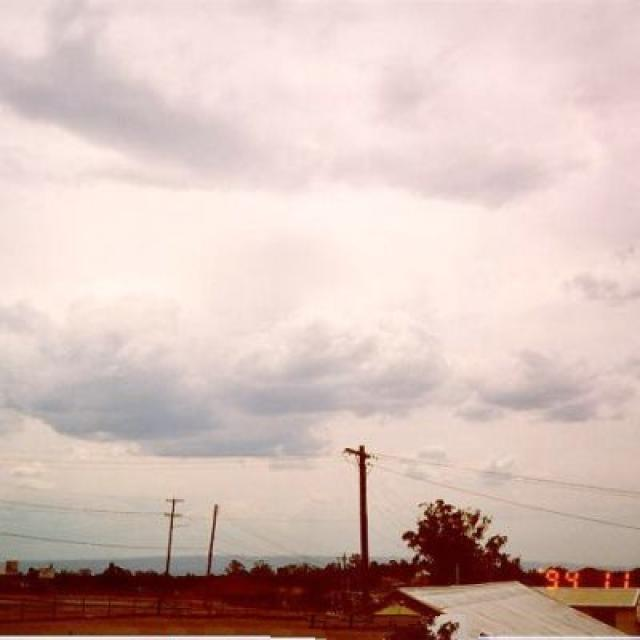Cs: (1, 1, 640, 453)
